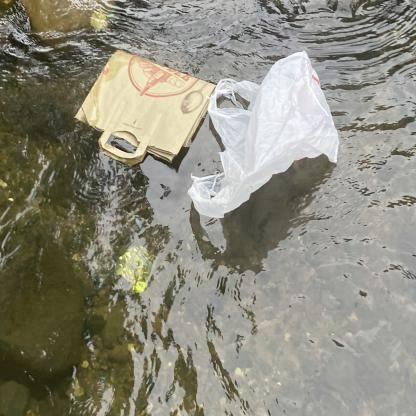Plastic: (186, 47, 347, 225)
Trash: (72, 42, 220, 167)
